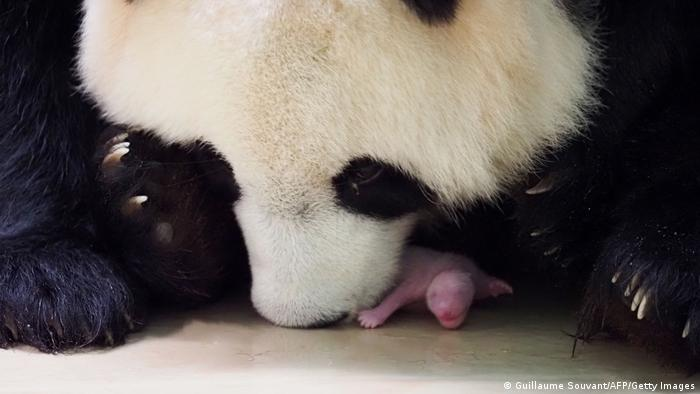panda: (74, 0, 670, 382)
